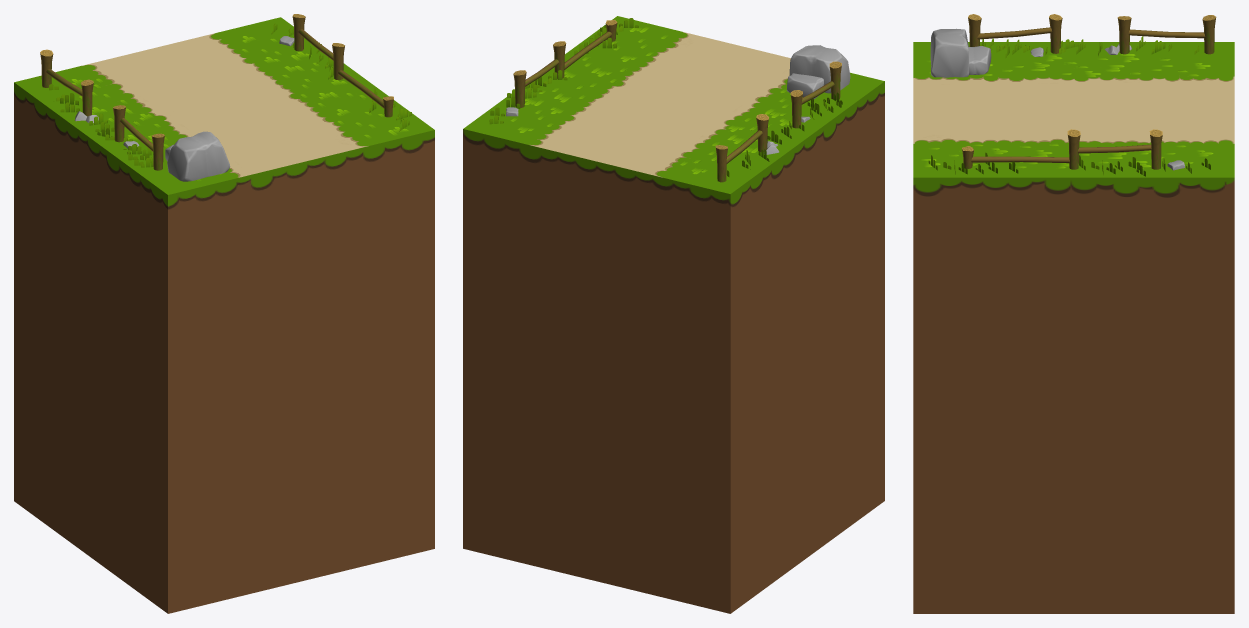
The model's file is Plataforma Pierda Der.fbx.
The picture shows the model from 3 angles, left to right: view 1: azimuth 30°, elevation 25°; view 2: azimuth 150°, elevation 25°; view 3: azimuth 270°, elevation 25°; orthographic projection. The views are drawn at different scales.
Parts seen in each view (by area): view 1: Plataforma 1.005, Cube.001; view 2: Plataforma 1.005, Cube.001, Cube.002; view 3: Plataforma 1.005, Cube.001, Cylinder.006, Cube.002, Cylinder.008, Cylinder.011, Cylinder.007, Cylinder.002, Cylinder.001.
Part boxes in pixels (x1,y1,x2,y2): Plataforma 1.005: (14, 17, 434, 613); Cube.001: (167, 131, 230, 181); Plataforma 1.005: (463, 16, 884, 613); Cube.001: (789, 45, 850, 93); Cube.002: (787, 73, 823, 98); Plataforma 1.005: (913, 42, 1234, 613); Cube.001: (930, 28, 969, 77); Cylinder.006: (971, 156, 1069, 163); Cube.002: (968, 46, 991, 74); Cylinder.008: (1128, 29, 1205, 38); Cylinder.011: (977, 27, 1052, 39); Cylinder.007: (1077, 144, 1151, 153); Cylinder.002: (1149, 129, 1162, 169); Cylinder.001: (1202, 15, 1216, 54).
Size of the model in its own units: 1012 by 1623 by 1000.
